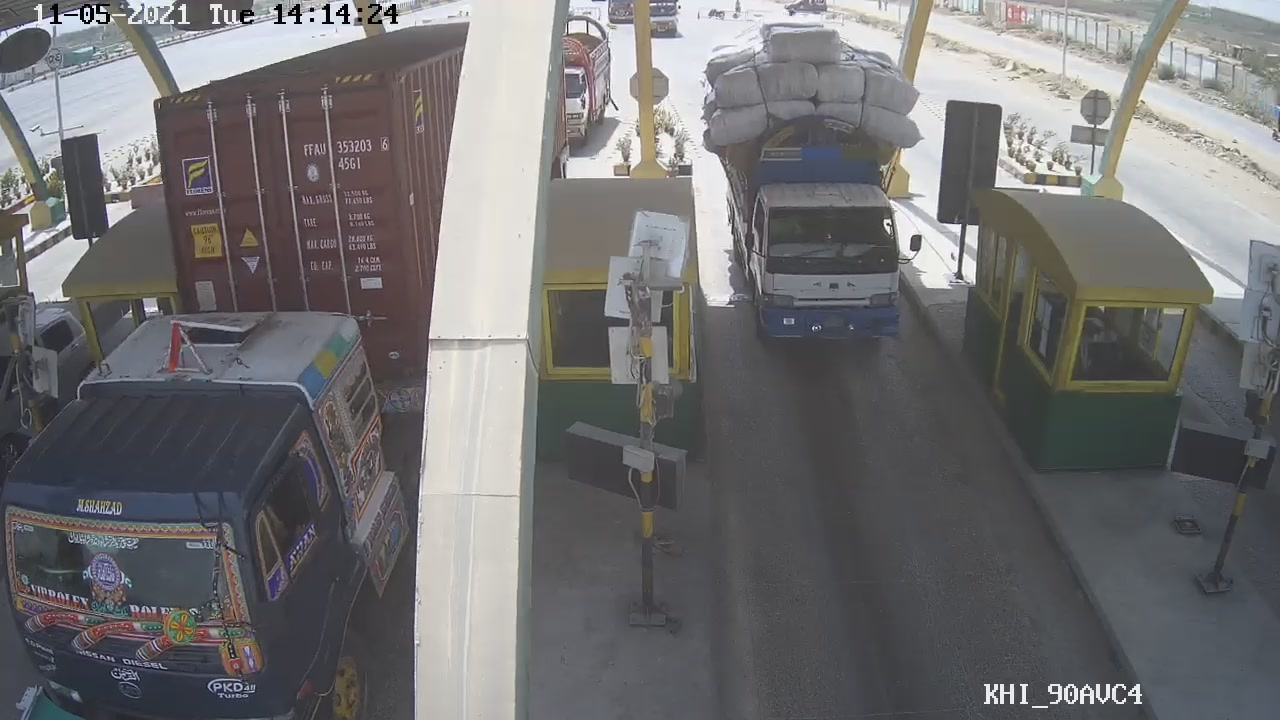F5: (715, 114, 943, 357)
